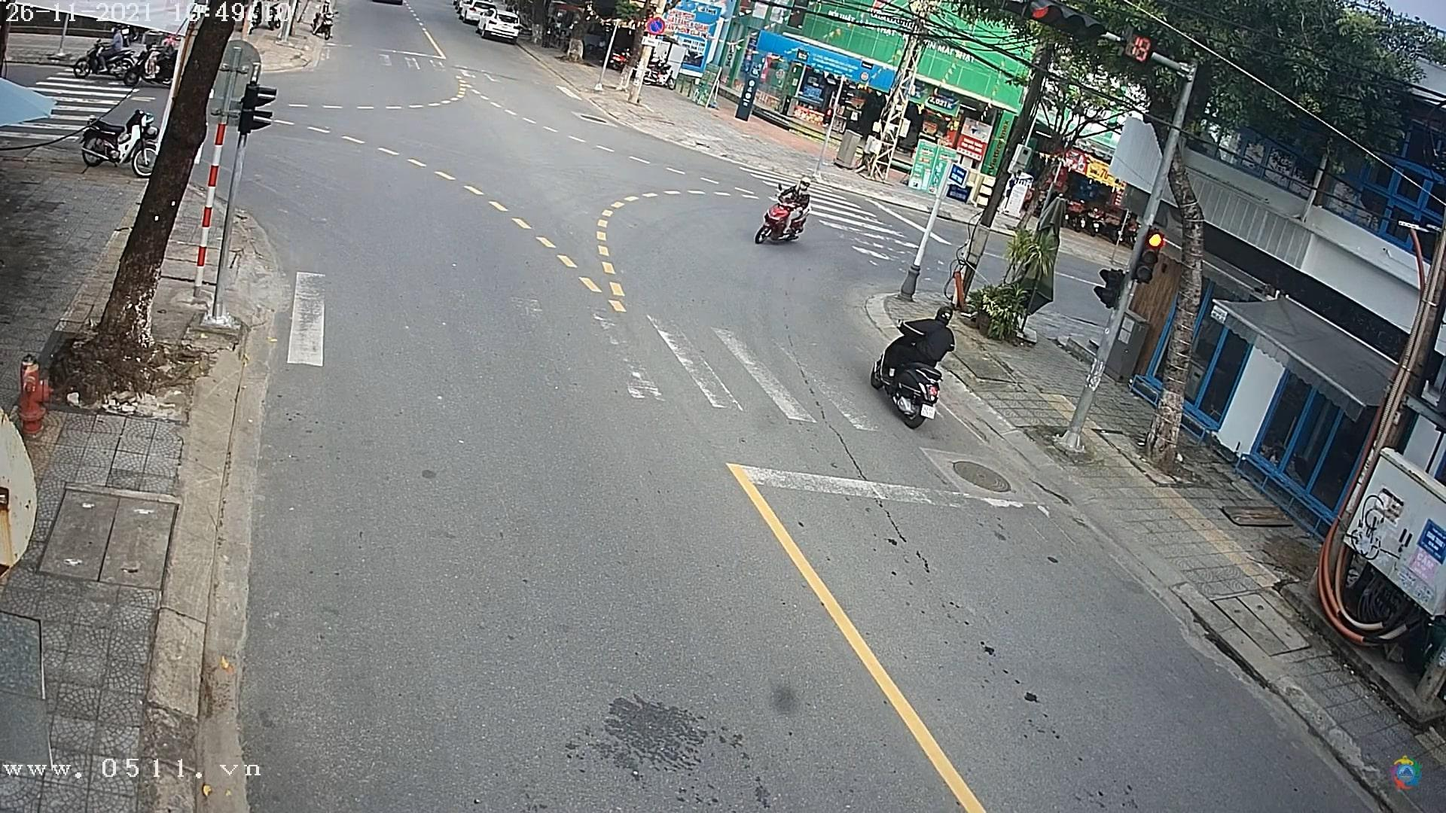motorbike: (868, 317, 944, 431), (756, 206, 806, 242)
